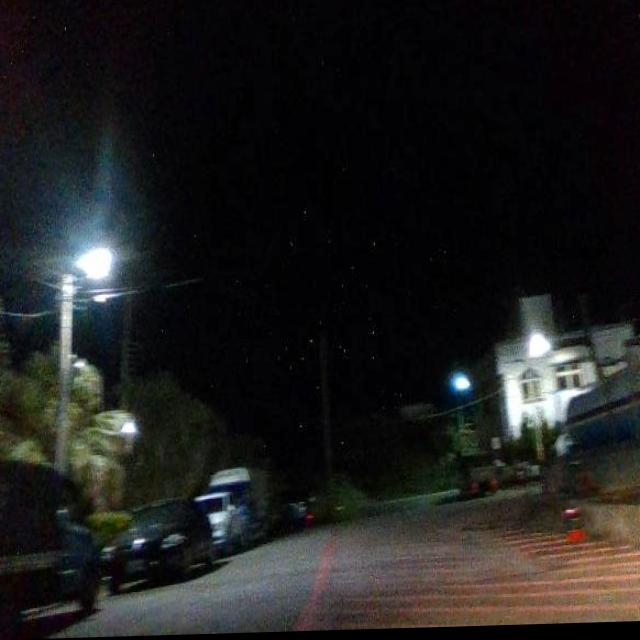pollute: (564, 507, 592, 552)
